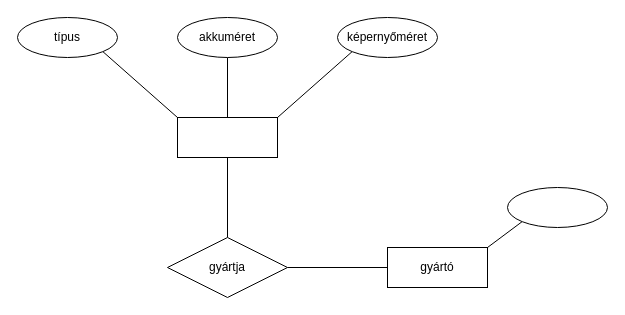
This 625x315 diagram has some shape labels left out. The box of each missing label's shape, as (x1, y1, x2, y2) in pixels:
mobil: (176, 116, 278, 158)
név: (506, 186, 608, 228)
